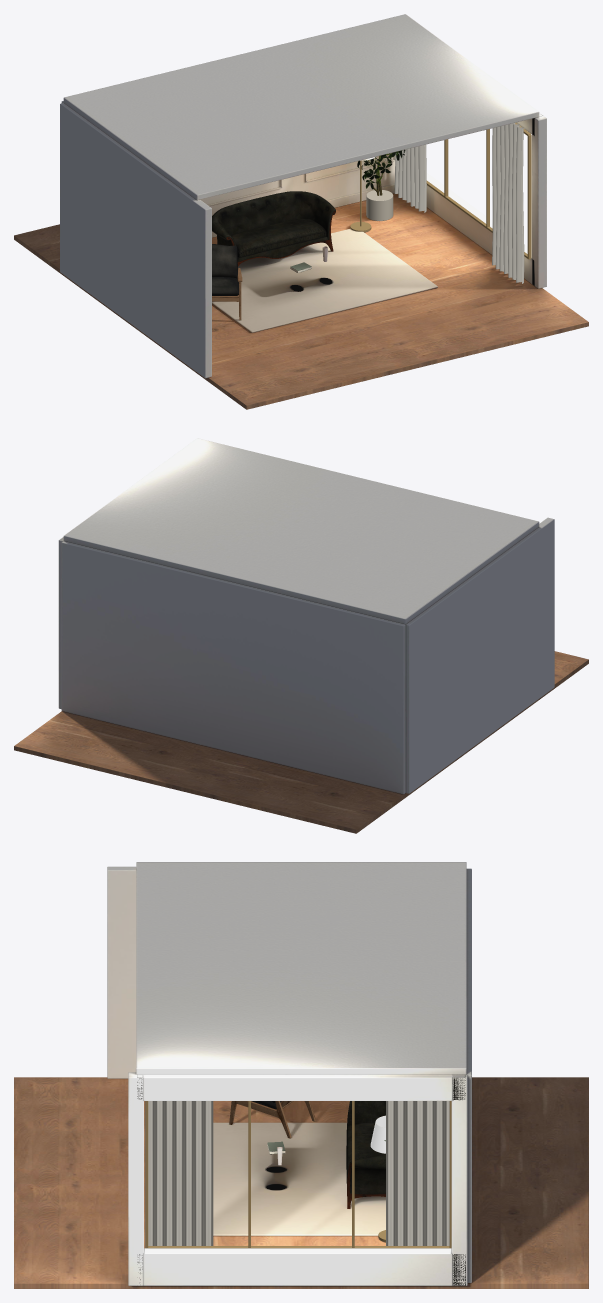
The model's file is living-baked-interior.glb.
The picture shows the model from 3 angles, top to bottom: view 1: azimuth 30°, elevation 25°; view 2: azimuth 150°, elevation 25°; view 3: azimuth 270°, elevation 25°; orthographic projection. The views are drawn at different scales.
Visible parts, largest first — view 1: Studio baked architecture, Pleated curtain, sofa_02_Base, sofa_02_Seat, Pleated curtain.001, modern_arm_chair_01, Tree planter, Window mullion, pachira_aquatica_01_leaves_d; view 2: Studio baked architecture; view 3: Studio baked architecture, Pleated curtain, Pleated curtain.001, sofa_02_Base, sofa_02_Seat, Window horizontal rail, modern_arm_chair_01, Window mullion.
Boxes of the visible parts, x1,y1,x2,y2 form: Studio baked architecture: (14,14,588,409); Pleated curtain: (492,123,524,283); sofa_02_Base: (212,191,335,266); sofa_02_Seat: (231,218,326,257); Pleated curtain.001: (394,144,426,212); modern_arm_chair_01: (212,244,242,320); Tree planter: (366,190,393,220); Window mullion: (527,134,531,259); pachira_aquatica_01_leaves_d: (357,149,405,189); Studio baked architecture: (14,438,588,833); Studio baked architecture: (14,862,588,1288); Pleated curtain: (145,1101,213,1247); Pleated curtain.001: (386,1101,449,1245); sofa_02_Base: (347,1101,385,1208); sofa_02_Seat: (346,1123,385,1183); Window horizontal rail: (148,1246,449,1248); modern_arm_chair_01: (229,1101,315,1138); Window mullion: (145,1101,148,1248).
Size of the model in its own units: 6.96 by 3.38 by 8.
9 materials, 6 textured.
